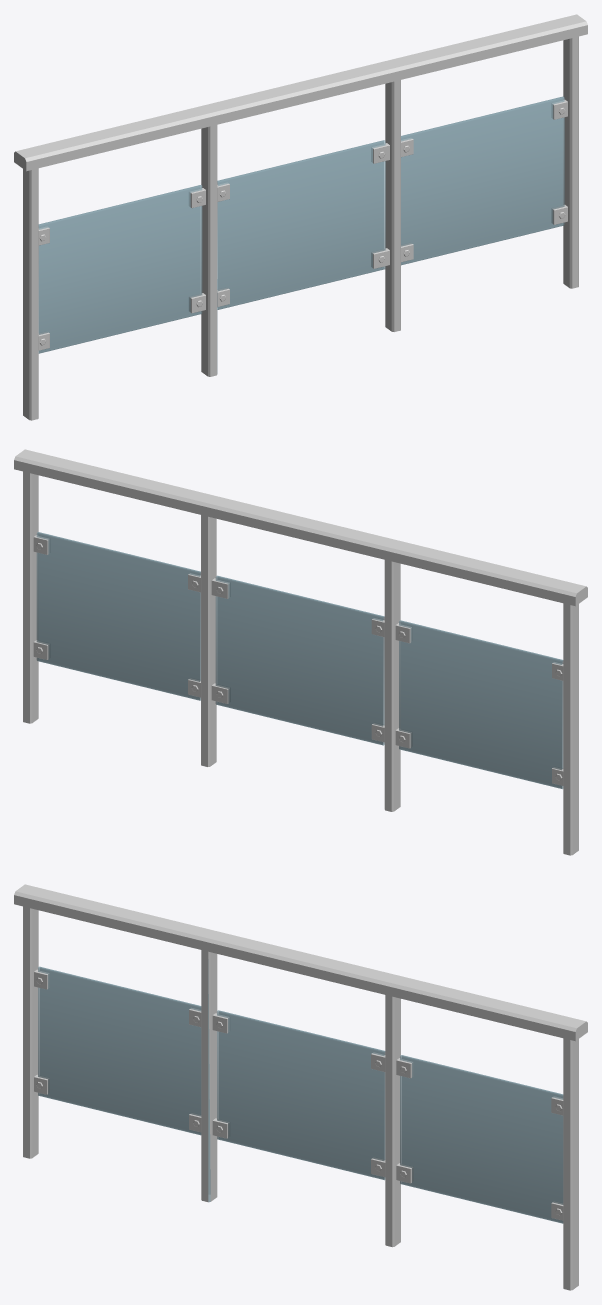
The model's file is Handrail01.FBX.
3 views of the same model, one above another, from view 1: azimuth 30°, elevation 25°; view 2: azimuth 150°, elevation 25°; view 3: azimuth 330°, elevation 25° (orthographic).
Parts seen in each view (by area): view 1: Handrail01; view 2: Handrail01; view 3: Handrail01.
Boxes of the visible parts, <box> form: Handrail01: <box>14,14,587,420</box>; Handrail01: <box>14,449,587,855</box>; Handrail01: <box>14,884,587,1290</box>.
Bounding box in the file's own units: 260 × 10 × 117.
